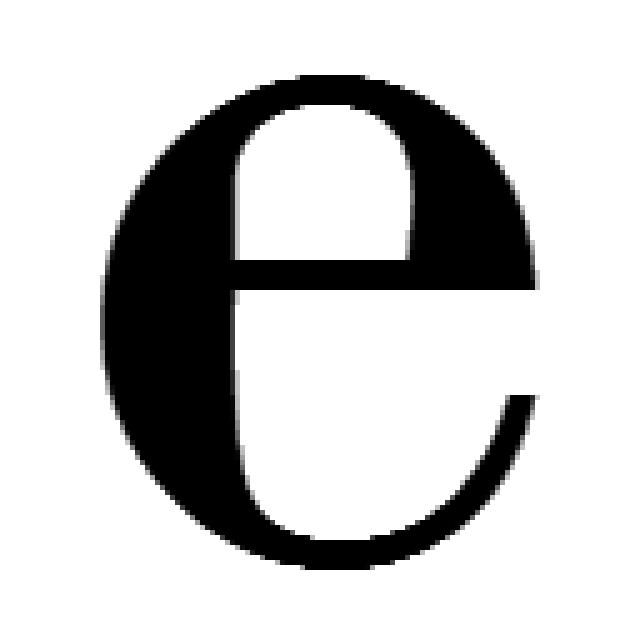E: (105, 75, 535, 570)
